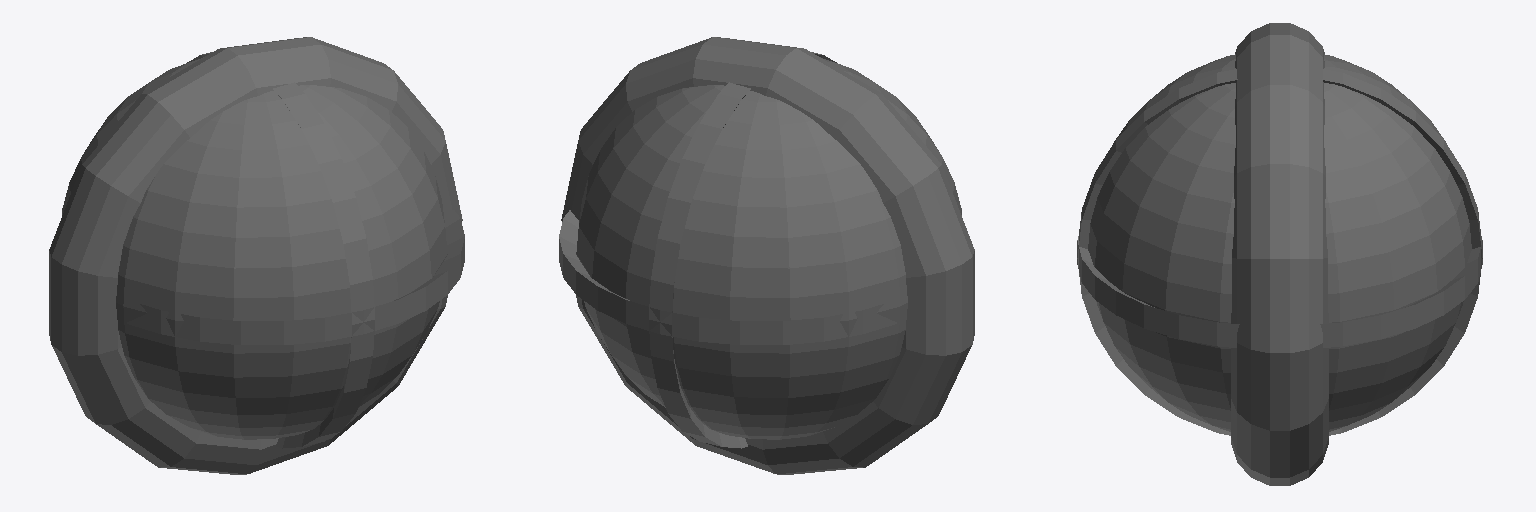
The model's file is JordanBeacon2.obj.
3 renders of one model, left to right at view 1: azimuth 30°, elevation 25°; view 2: azimuth 150°, elevation 25°; view 3: azimuth 270°, elevation 25°, orthographic.
Visible parts, largest first — view 1: pSphere1, pTorus1, pTorus2, pTorus3; view 2: pSphere1, pTorus1, pTorus2, pTorus3; view 3: pSphere1, pTorus1, pTorus2, pTorus3.
Part boxes in pixels (left/top/right/bottom): pSphere1: left=62, top=57, right=447, bottom=439; pTorus1: left=49, top=37, right=462, bottom=474; pTorus2: left=187, top=52, right=374, bottom=448; pTorus3: left=127, top=210, right=464, bottom=344; pSphere1: left=576, top=57, right=961, bottom=439; pTorus1: left=561, top=37, right=974, bottom=474; pTorus2: left=649, top=52, right=836, bottom=448; pTorus3: left=559, top=210, right=896, bottom=344; pSphere1: left=1088, top=54, right=1471, bottom=431; pTorus1: left=1231, top=23, right=1328, bottom=485; pTorus2: left=1077, top=69, right=1482, bottom=435; pTorus3: left=1077, top=236, right=1482, bottom=347.
Bounding box in the file's own units: 4.49 × 4.51 × 3.95.